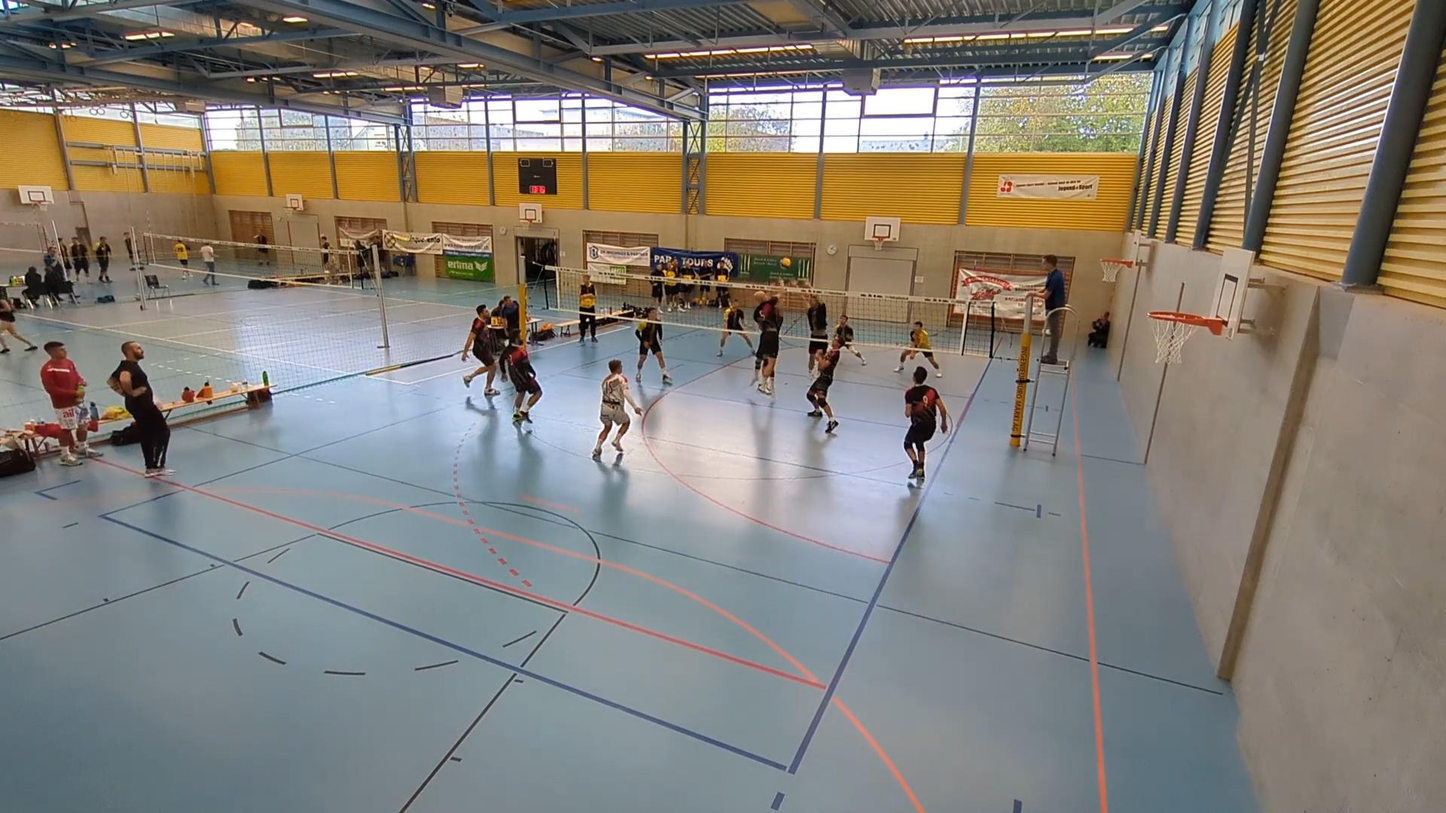Attack: (751, 284, 789, 400)
Block: (790, 274, 834, 373)
Player: (904, 367, 948, 482), (592, 359, 642, 457), (462, 304, 499, 395), (505, 330, 541, 422), (806, 337, 840, 433), (635, 309, 671, 382), (895, 321, 941, 376), (718, 307, 753, 356), (834, 314, 865, 365)
ball: (781, 259, 795, 267)
